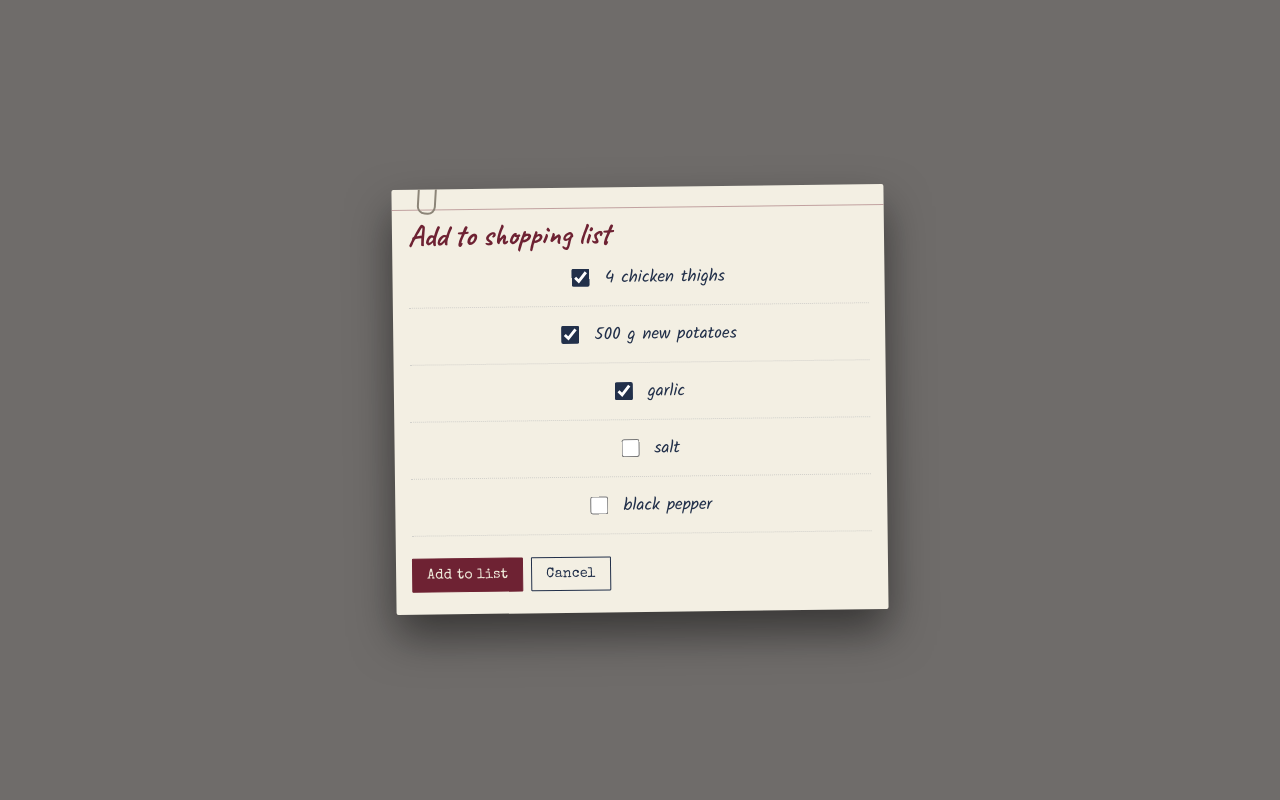
Test: adding to a list that already has items › asks, naming the count, when the list is not empty
Click the button with test id "add-confirm" at (468, 576), box [412,558,523,594]
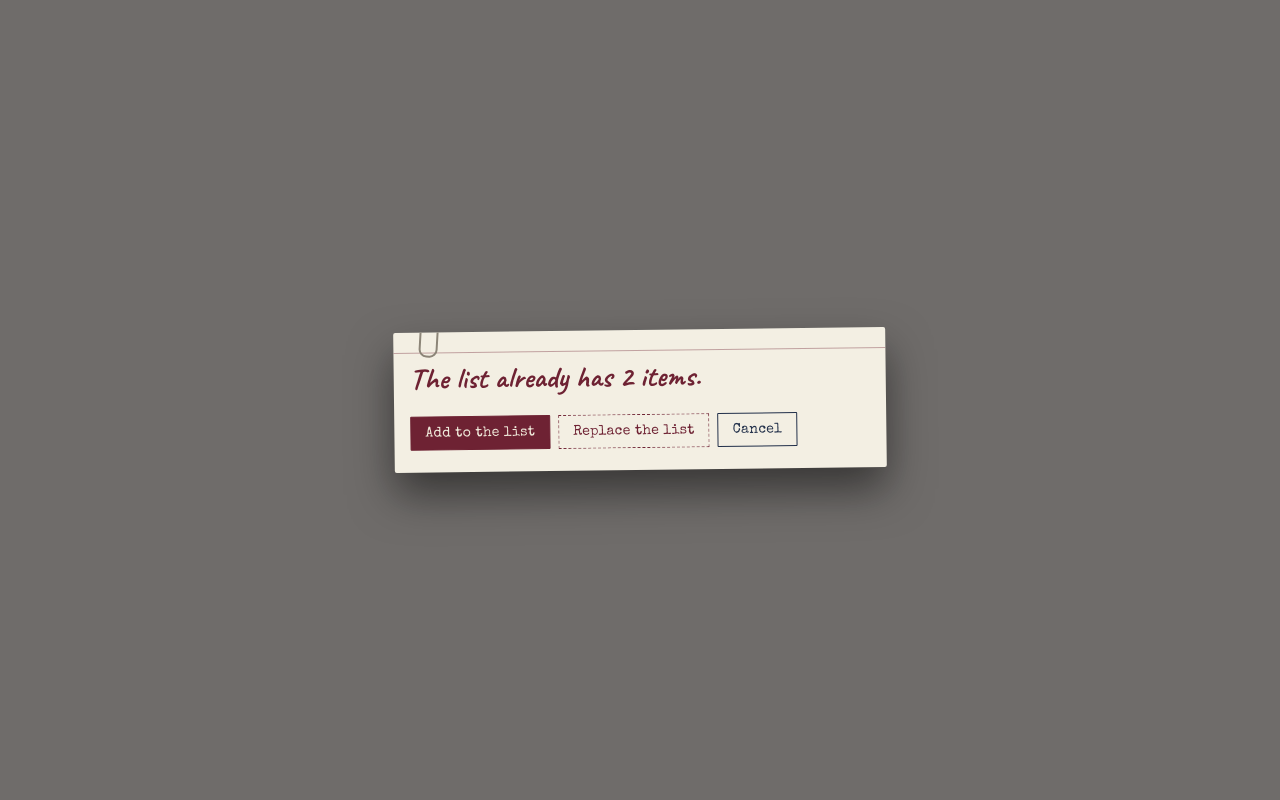
Result: the heading with test id "add-prompt" reads "The list already has 2 items." at [410,356,701,398]
